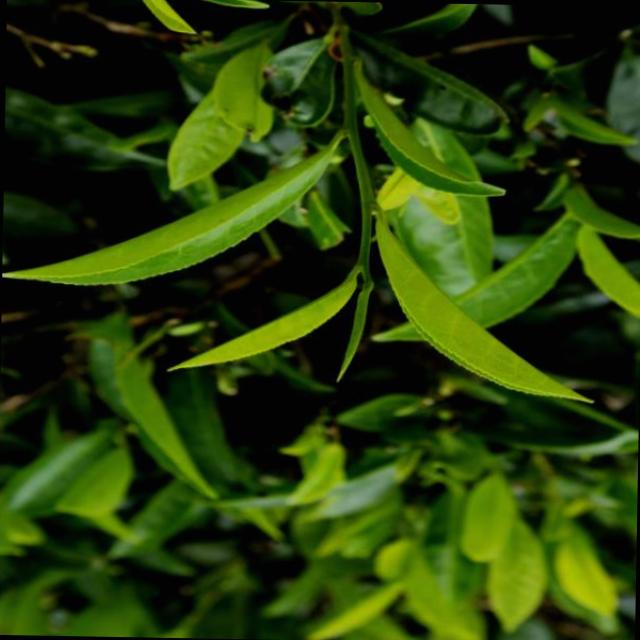Stem: (357, 253, 367, 268)
